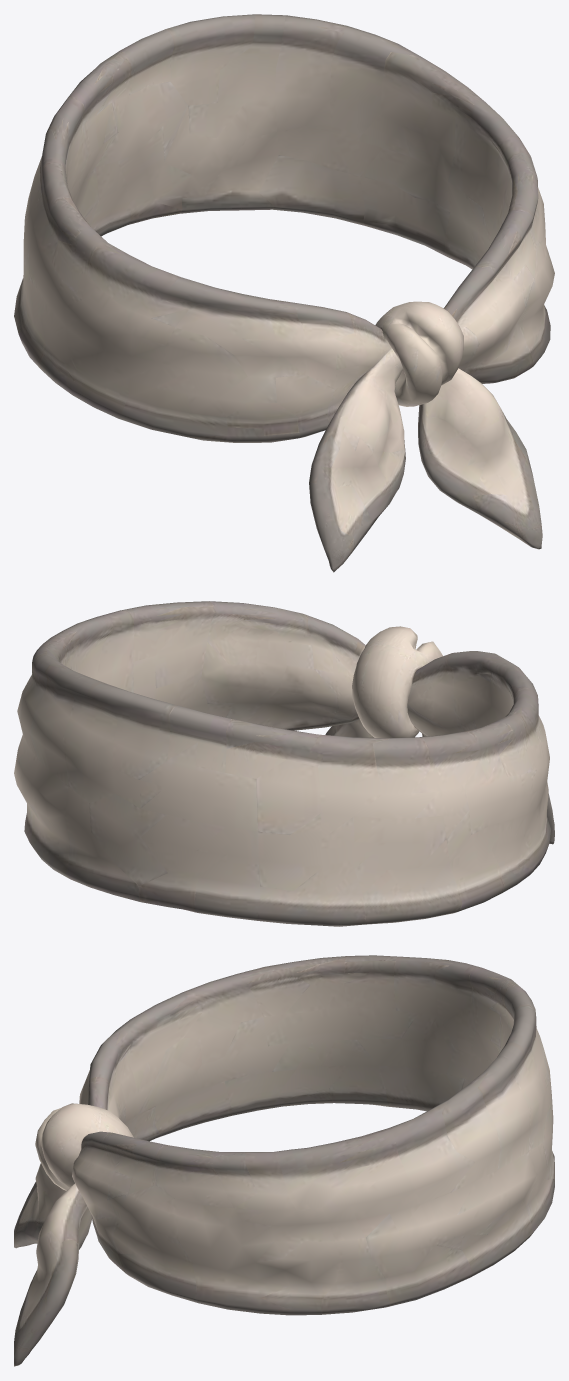
Rendered from kerchief.glb.
3 renders of one model, top to bottom at view 1: azimuth 30°, elevation 25°; view 2: azimuth 150°, elevation 25°; view 3: azimuth 270°, elevation 25°, orthographic. The views are drawn at different scales.
Bounding box in the file's own units: 0.9295 × 0.6508 × 1.
Materials: 1 (1 with a texture image).
